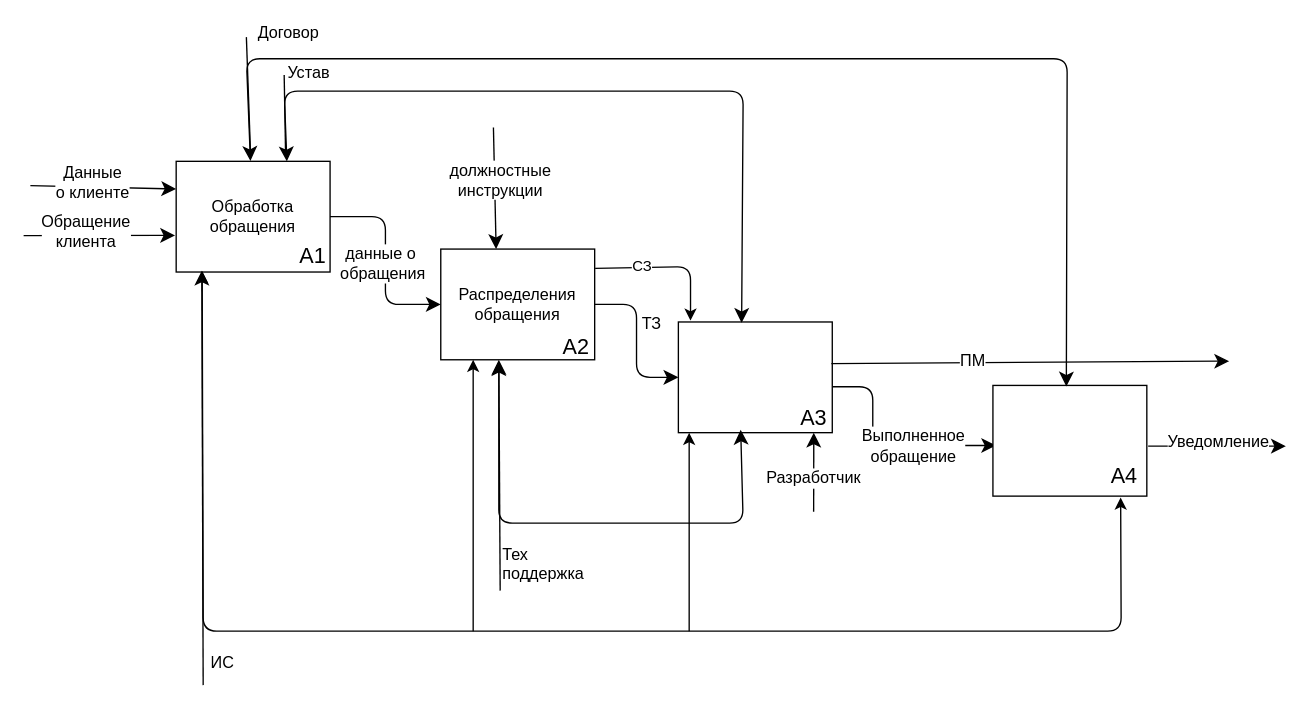
Some shapes in this 1308 by 709 pixel diagram are drawn without their labels. Each missing label, with the box of its shape:
Выполнения обращения: (677, 321, 832, 433)
Оповещение: (992, 384, 1147, 496)
